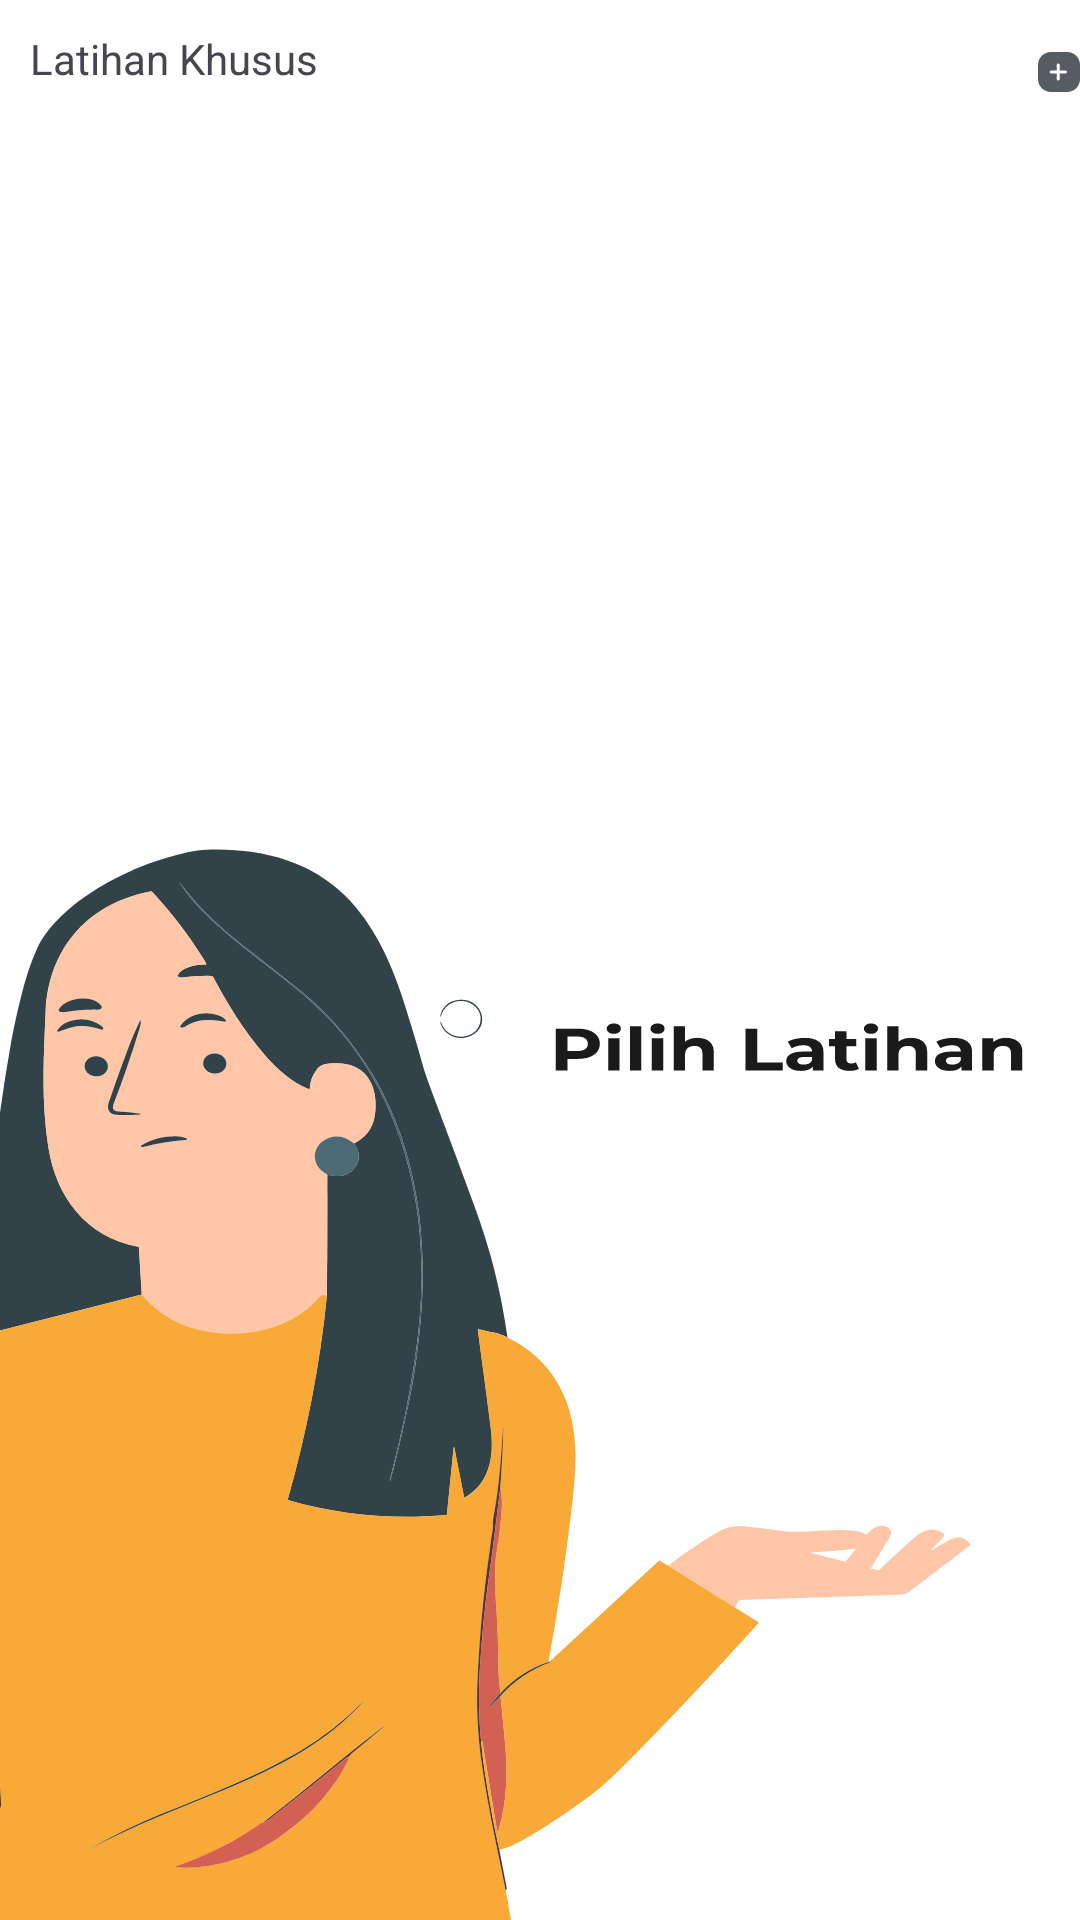

Where icons sit on this 1080px×1920px app screen, as (x1, y1, x2, y2):
tambah exercise: (1038, 52, 1080, 92)
